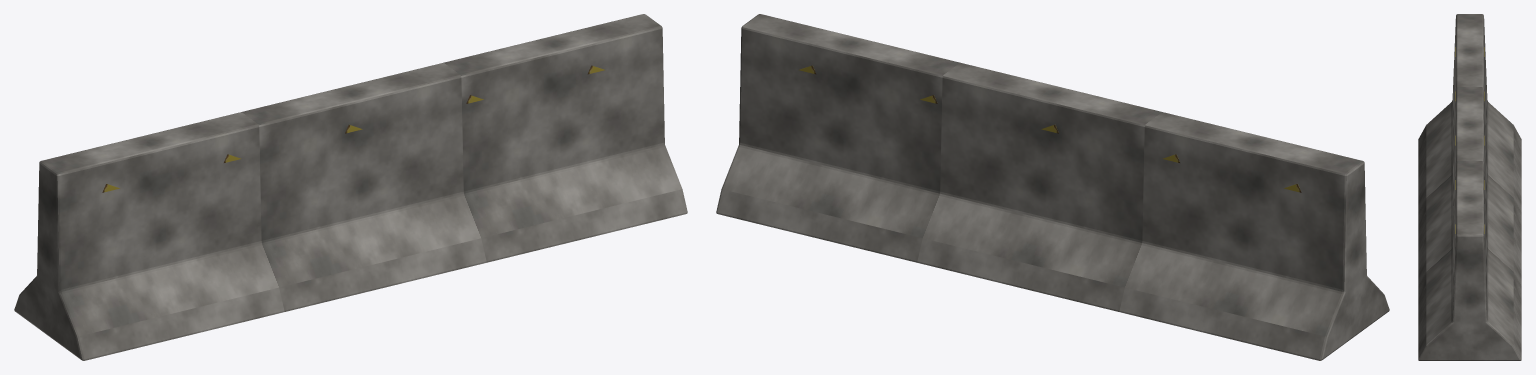
Rendered from ST16_LaneDivider.glb.
3 views of the same model, side by side, from view 1: azimuth 30°, elevation 25°; view 2: azimuth 150°, elevation 25°; view 3: azimuth 270°, elevation 25° (orthographic). The views are drawn at different scales.
Visible parts, largest first — view 1: ST16_LaneDivider; view 2: ST16_LaneDivider; view 3: ST16_LaneDivider.
Part boxes in pixels (bbox=[...]): ST16_LaneDivider: bbox=[14, 14, 687, 360]; ST16_LaneDivider: bbox=[716, 14, 1389, 360]; ST16_LaneDivider: bbox=[1418, 14, 1521, 360].
Size of the model in its own units: 3 by 0.8 by 0.5922.
Materials: 2 (2 with a texture image).
